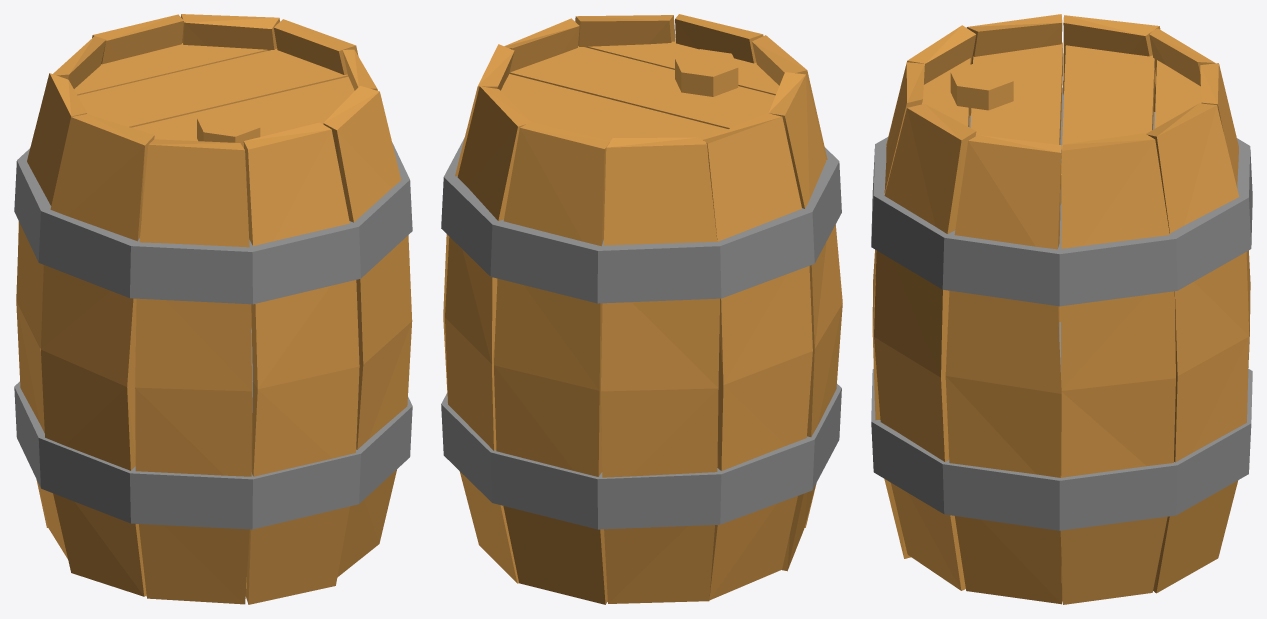
The model's file is barrel.fbx.
The picture shows the model from 3 angles, left to right: view 1: azimuth 30°, elevation 25°; view 2: azimuth 150°, elevation 25°; view 3: azimuth 270°, elevation 25°; orthographic projection.
Visible parts, largest first — view 1: barrel; view 2: barrel; view 3: barrel.
Boxes of the visible parts, box(x1,y1,x2,y2) form: barrel: box(14, 14, 412, 604); barrel: box(441, 14, 842, 604); barrel: box(871, 14, 1252, 604).
Bounding box in the file's own units: 0.785 × 0.9928 × 0.7493.
